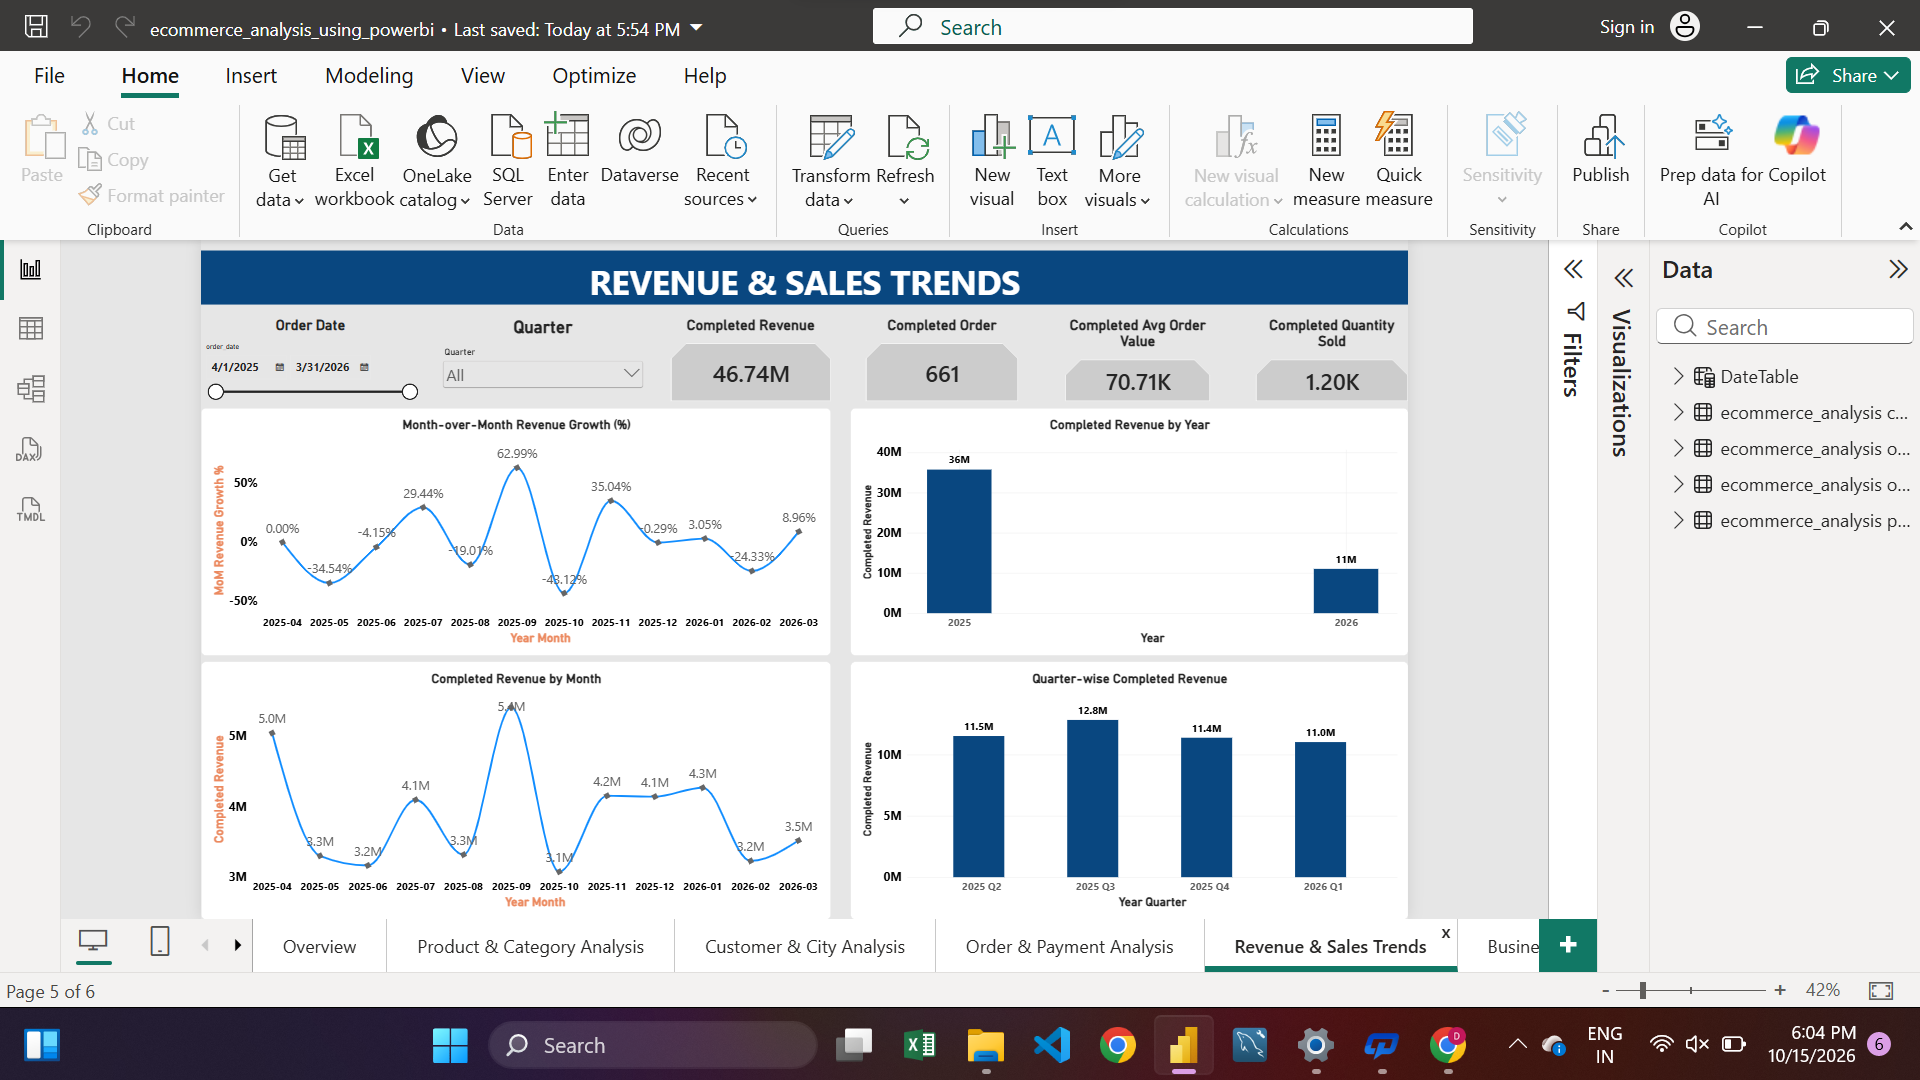

What the dashboard file says about the page in this screenshot:
{"tool":"powerbi","page":{"name":"Revenue & Sales Trends","canvas":[1920,1080],"ordinal":4},"visuals":[{"type":"cardVisual","title":"Completed Quantity Sold","fields":{"Data":["ecommerce_analysis order_items.Completed Quantity Sold"]},"box":[1677.3,121.7,243.4,136],"z":0},{"type":"cardVisual","title":"Completed Revenue","fields":{"Data":["ecommerce_analysis order_items.Completed Revenue"]},"box":[746.8,121.7,255.3,136],"z":1000},{"type":"cardVisual","title":"Completed Order","fields":{"Data":["ecommerce_analysis order_items.Completed Orders"]},"box":[1057,121.7,243.4,136],"z":2000},{"type":"slicer","title":"Order Date","fields":{"Values":["ecommerce_analysis orders.order_date"]},"box":[0,121.7,348.3,136],"z":3000},{"type":"slicer","title":"Quarter","fields":{"Values":["DateTable.Quarter"]},"box":[379.4,121.7,329.3,136],"z":4000},{"type":"textbox","box":[0,16.7,1920.7,85.9],"z":5000},{"type":"cardVisual","title":"Completed Avg Order Value","fields":{"Data":["ecommerce_analysis order_items.Completed AOV"]},"box":[1374.3,121.7,231.4,136],"z":6000},{"type":"lineChart","title":"Completed Revenue by Month ","fields":{"Category":["DateTable.Year Month"],"Y":["ecommerce_analysis order_items.Completed Revenue"]},"box":[0,670.4,1002.1,410.4],"z":7000},{"type":"clusteredColumnChart","title":"Completed Revenue by Year","fields":{"Category":["DateTable.Year"],"Y":["ecommerce_analysis order_items.Completed Revenue"]},"box":[1033.1,267.2,887.6,393.7],"z":8000},{"type":"lineChart","title":"Month-over-Month Revenue Growth (%)","fields":{"Category":["DateTable.Year Month"],"Y":["DateTable.MoM Revenue Growth %"]},"box":[0,267.2,1002.1,393.7],"z":9000},{"type":"clusteredColumnChart","title":"Quarter-wise Completed Revenue","fields":{"Y":["ecommerce_analysis order_items.Completed Revenue"],"Category":["DateTable.Year Quarter"]},"box":[1033.1,670.4,887.6,410.4],"z":10000}]}

Visuals, with their boxes on the page's 1920x1080 design canvas (x1, y1, x2, y2). These are canvas units, not pixel positions in the 1920x1080 screenshot, which may show the page scaled, cropped or inside an application window:
"Completed Quantity Sold" cardVisual: select_region(1677, 122, 1921, 258)
"Completed Revenue" cardVisual: select_region(747, 122, 1002, 258)
"Completed Order" cardVisual: select_region(1057, 122, 1300, 258)
"Order Date" slicer: select_region(0, 122, 348, 258)
"Quarter" slicer: select_region(379, 122, 709, 258)
textbox: select_region(0, 17, 1921, 103)
"Completed Avg Order Value" cardVisual: select_region(1374, 122, 1606, 258)
"Completed Revenue by Month " lineChart: select_region(0, 670, 1002, 1081)
"Completed Revenue by Year" clusteredColumnChart: select_region(1033, 267, 1921, 661)
"Month-over-Month Revenue Growth (%)" lineChart: select_region(0, 267, 1002, 661)
"Quarter-wise Completed Revenue" clusteredColumnChart: select_region(1033, 670, 1921, 1081)
